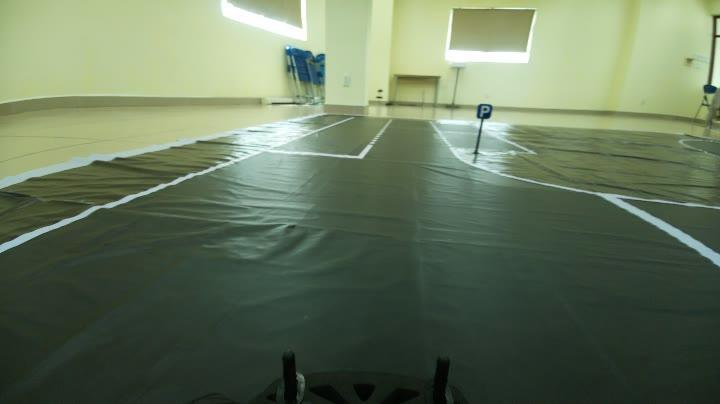parking: (473, 101, 496, 124)
